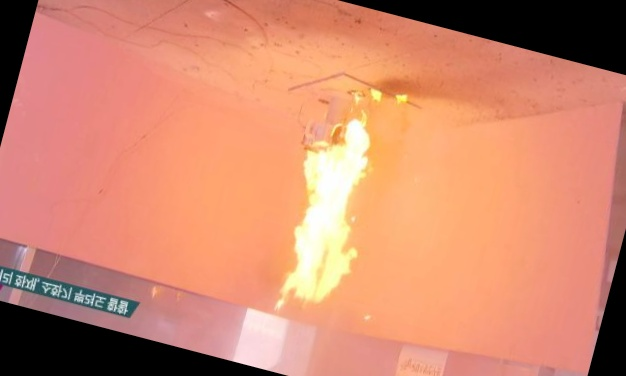fire: (246, 79, 412, 335)
